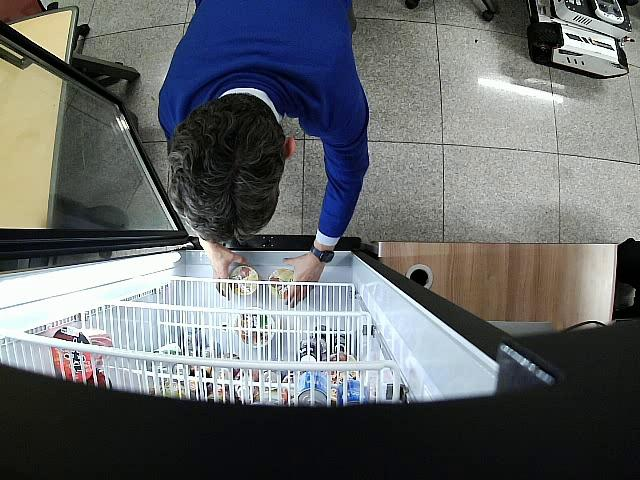00_hand: (282, 257, 323, 308), (213, 245, 247, 301)
04_chapagetti_S: (229, 263, 259, 296), (269, 268, 294, 299)
